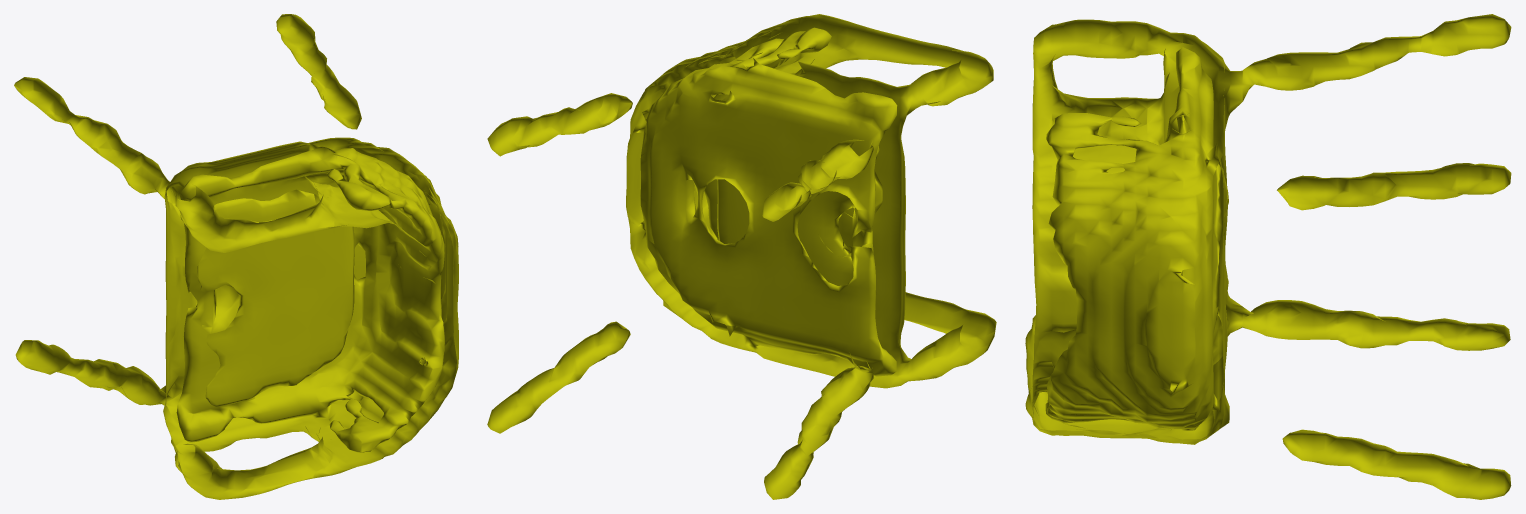
The picture shows the model from 3 angles, left to right: view 1: azimuth 30°, elevation 25°; view 2: azimuth 150°, elevation 25°; view 3: azimuth 270°, elevation 25°; orthographic projection. The views are drawn at different scales.
Parts seen in each view (by area): view 1: world; view 2: world; view 3: world.
Part boxes in pixels (left/top/right/bottom): world: left=14, top=14, right=458, bottom=499; world: left=487, top=14, right=996, bottom=499; world: left=1025, top=14, right=1511, bottom=499.
Size of the model in its own units: 32.18 by 30.82 by 40.81.
